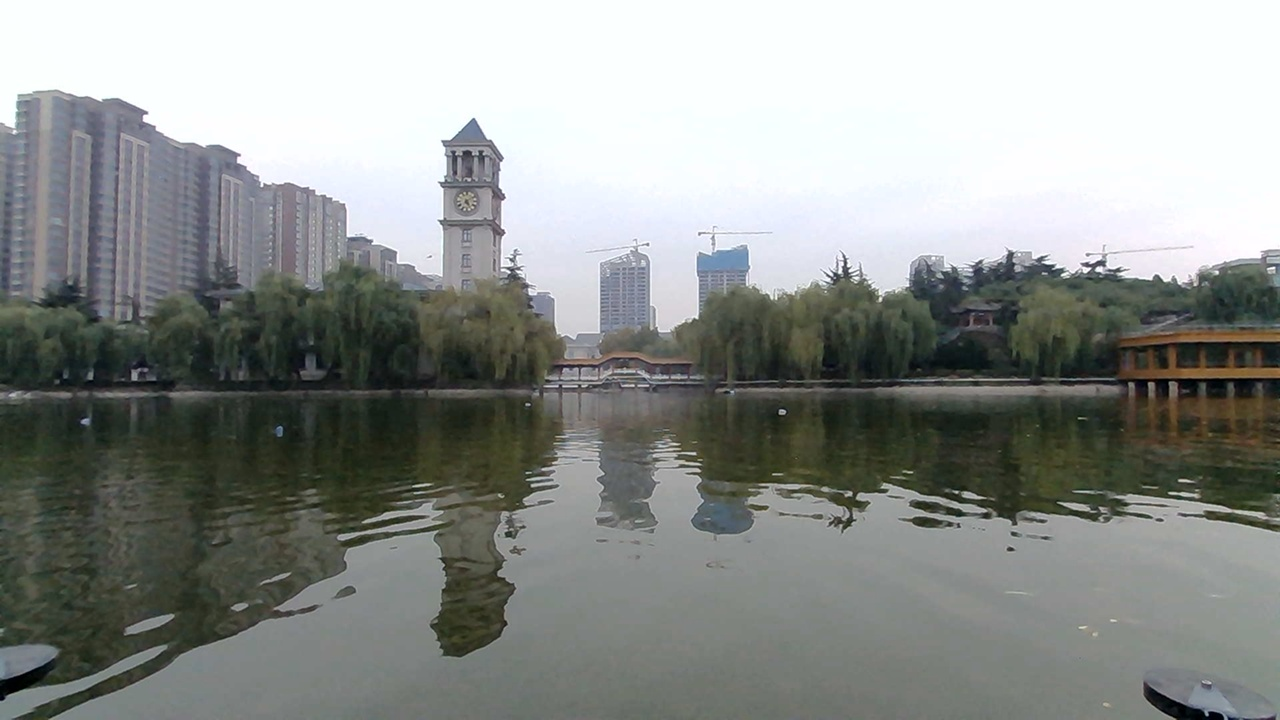bottle: (762, 400, 805, 424), (262, 420, 296, 442), (75, 404, 96, 432)
